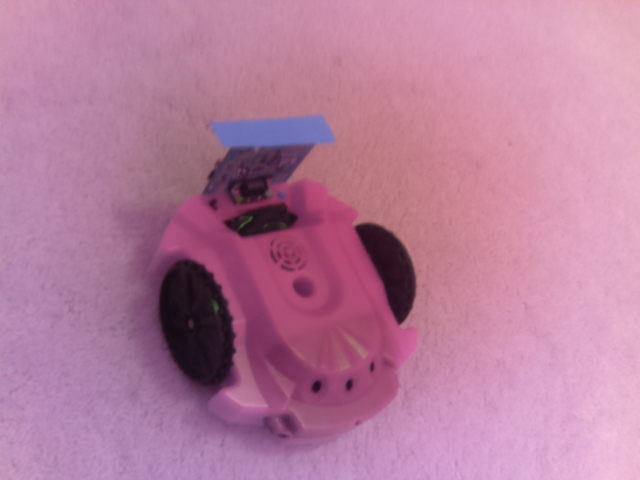board: (182, 111, 345, 205)
chassis: (149, 105, 418, 449)
